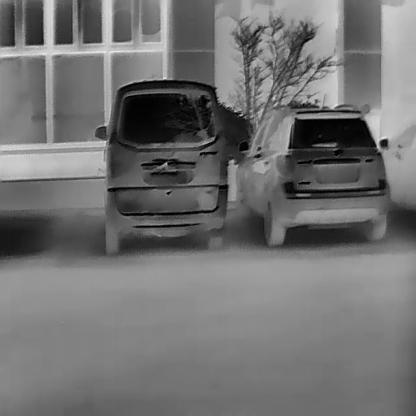car: (91, 77, 229, 255), (235, 101, 388, 247), (379, 120, 415, 211)
